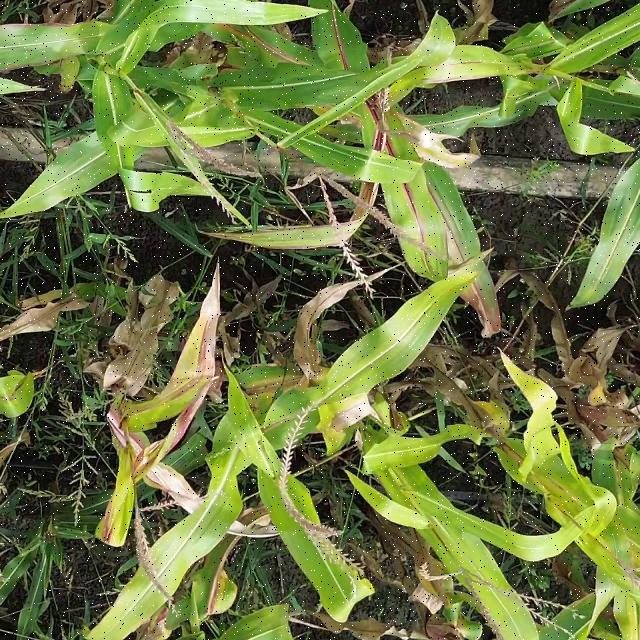northern-leaf-blight: (240, 368, 316, 402), (204, 551, 231, 620), (257, 34, 313, 67), (426, 53, 484, 77), (211, 19, 253, 44)
